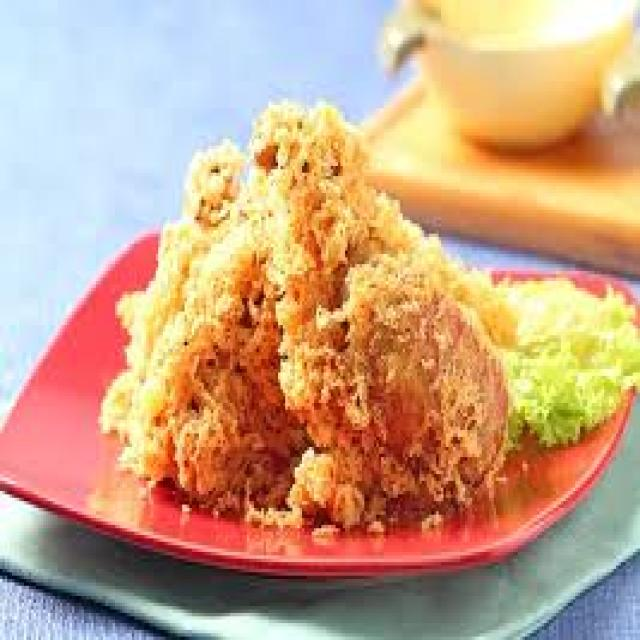ayam_goreng: (105, 101, 511, 532), (256, 103, 496, 504), (130, 145, 290, 477)
